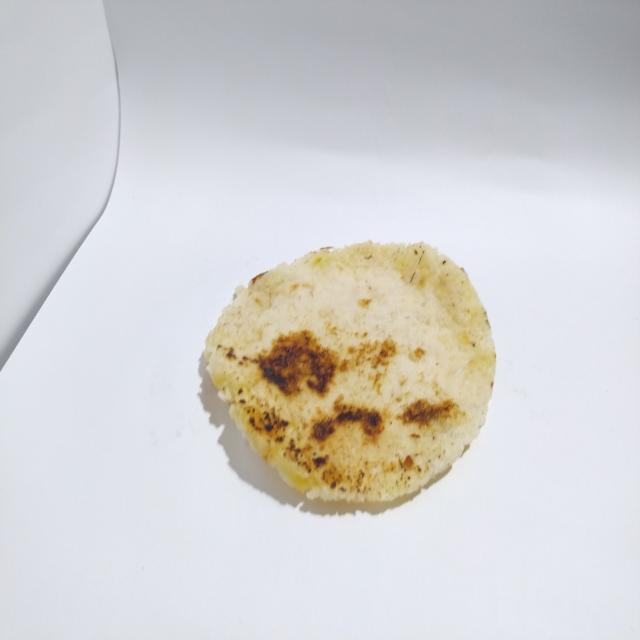Food: (195, 224, 507, 533)
